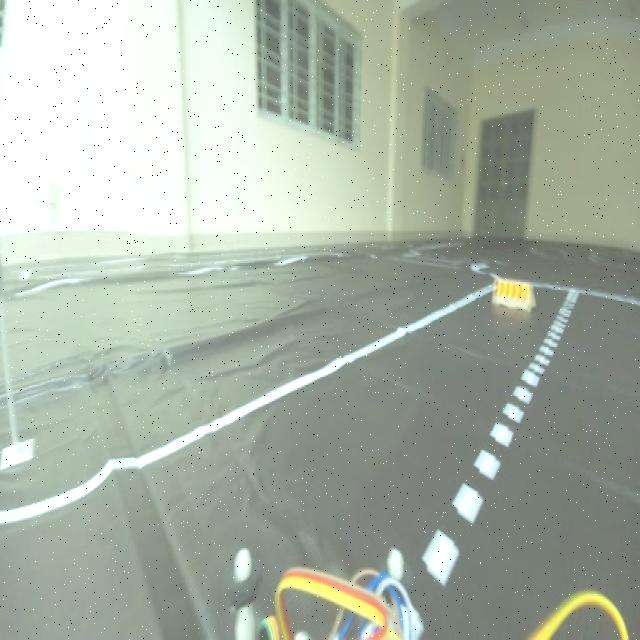roadblock: (488, 268, 532, 322)
